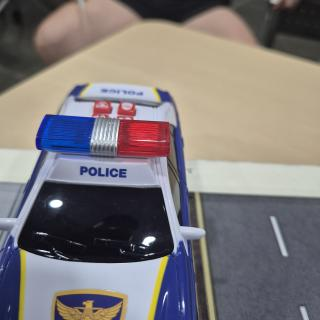Police_car: (0, 83, 205, 320)
